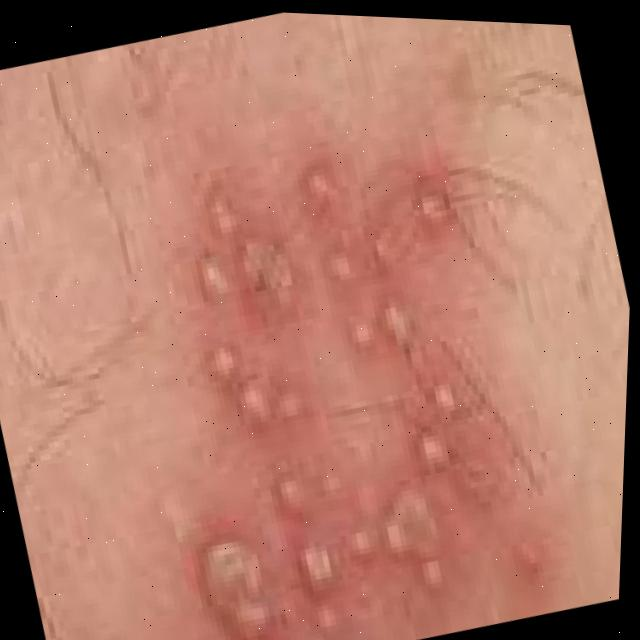Shingles: (95, 97, 548, 640)
